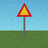sign: (17, 3, 32, 37)
